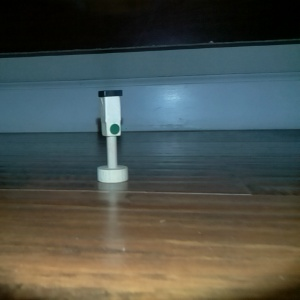traffic light green: (92, 86, 130, 185)
